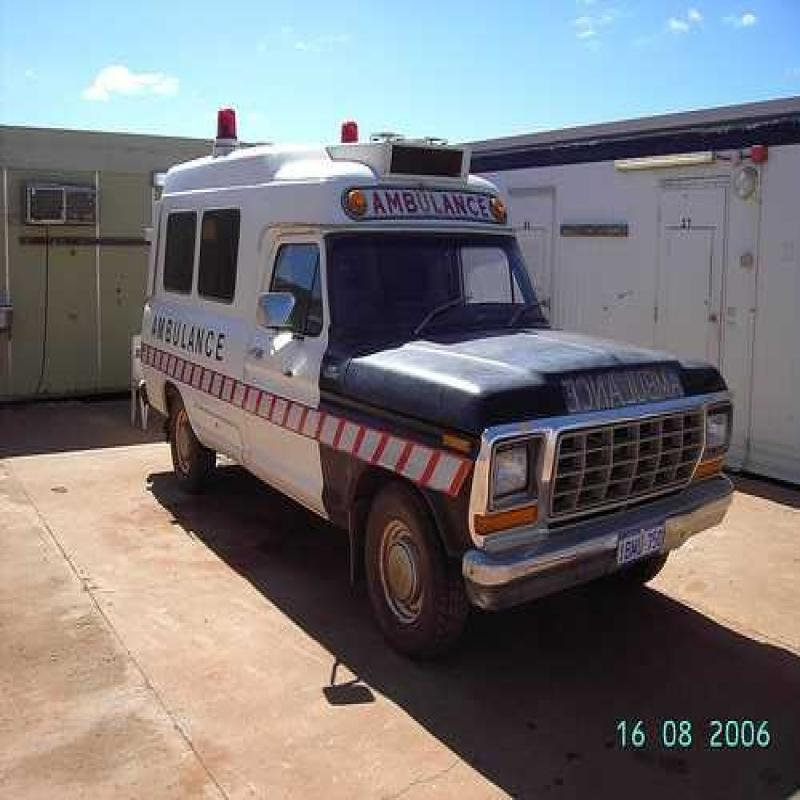AmbulanceSiren: (208, 91, 251, 155), (334, 104, 366, 158)
